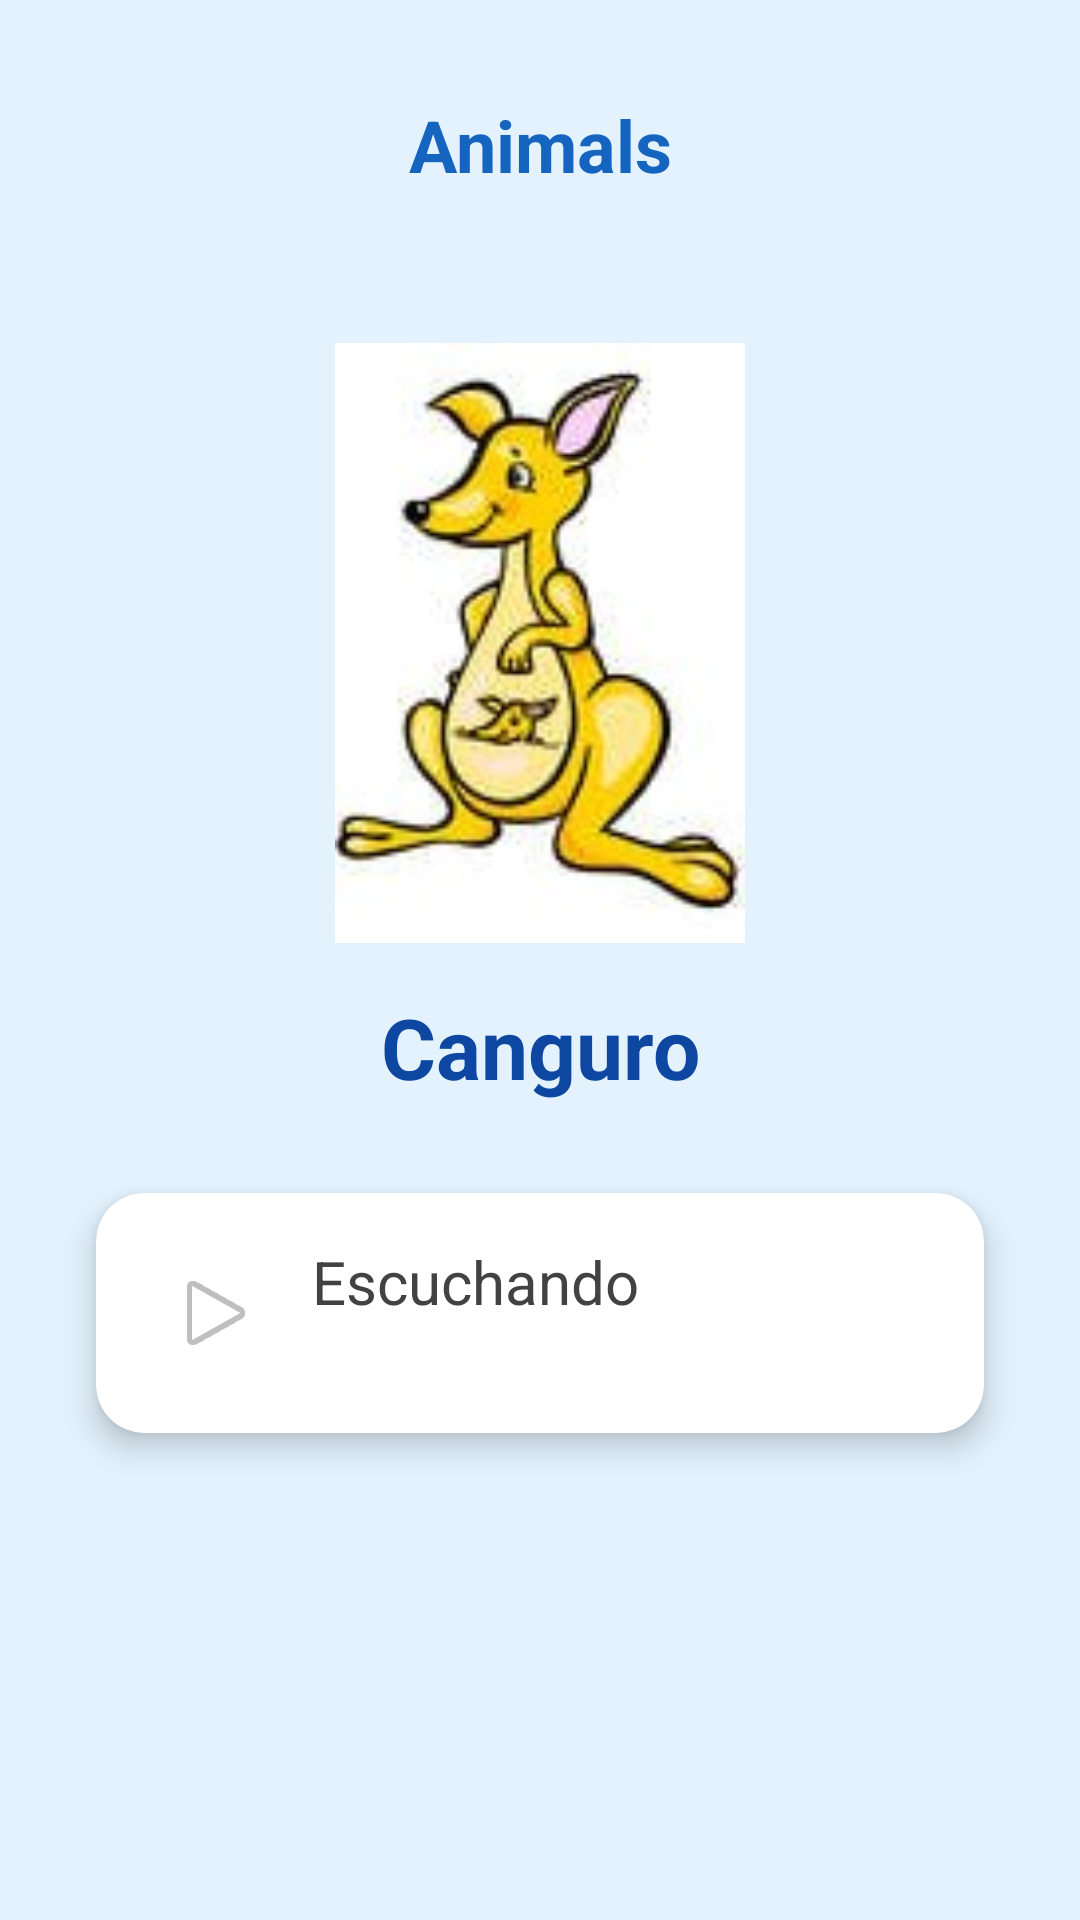

Icons on this 1080 x 1920 Android screen, each with its box as (x1, y1, x2, y2):
Play Pronunciation: (187, 1281, 245, 1345)
